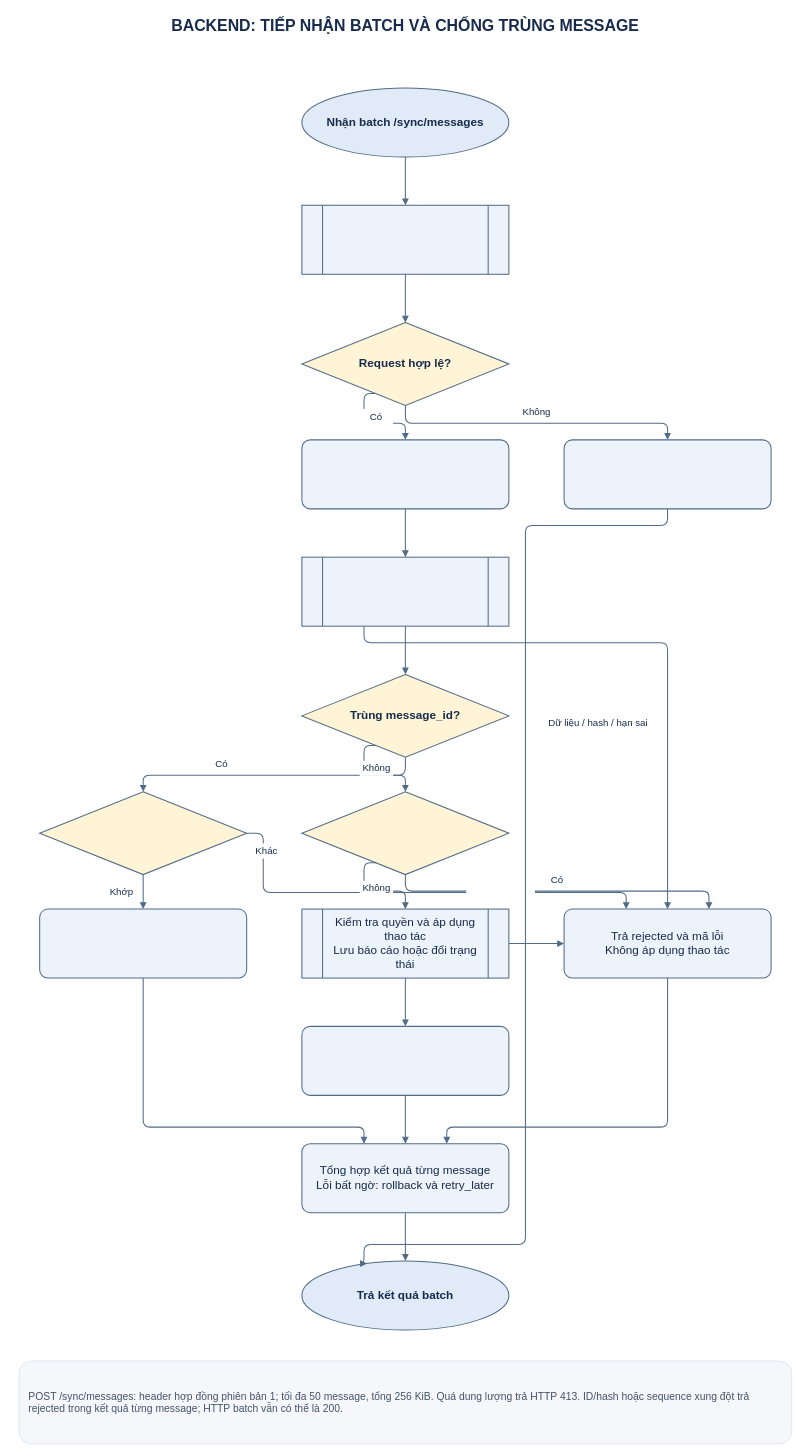
This 810x1456 diagram has some shape labels left out. Here are the shapes that lost their labels. From the top down, the box of each, then its label:
(301, 204, 509, 274): Kiểm tra phiên bản và giới hạn Đọc JSON hợp lệ
(301, 439, 509, 509): Xử lý từng message trong giao dịch độc lập
(563, 439, 771, 509): Trả lỗi request phù hợp 400 hoặc 413
(301, 556, 509, 626): Kiểm tra cấu trúc, hash và hạn dùng
(39, 791, 247, 875): Hash có khớp?
(301, 791, 509, 875): Sequence có bị dùng lại?
(466, 887, 535, 903): Không hợp lệ
(39, 908, 247, 978): Trả duplicate kèm kết quả đã lưu
(301, 1026, 509, 1096): Lưu dấu chống trùng và nhật ký Commit; trả accepted
